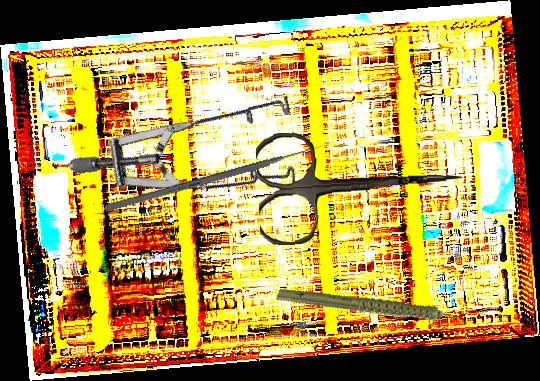Handpiece: (275, 250, 469, 368)
Iris Scissors: (255, 123, 465, 247)
Pusher: (104, 141, 328, 213)
Speculum: (66, 23, 329, 261)
